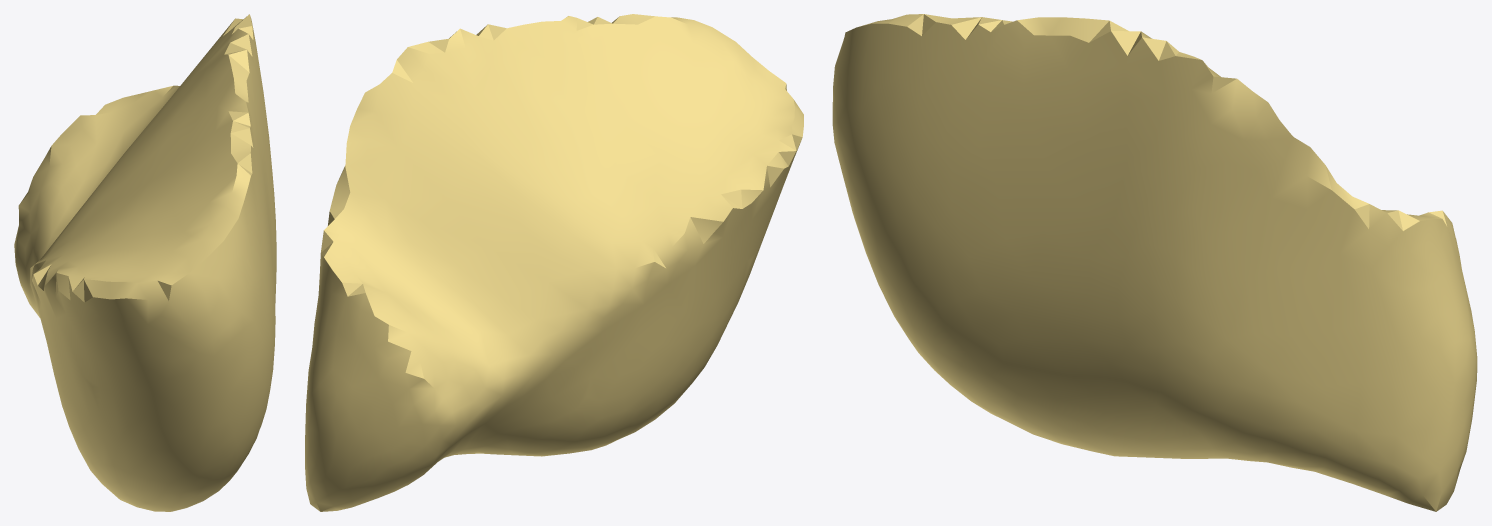
Rendered from fma72984_mm2790m.glb.
3 renders of one model, left to right at view 1: azimuth 30°, elevation 25°; view 2: azimuth 150°, elevation 25°; view 3: azimuth 270°, elevation 25°, orthographic. The views are drawn at different scales.
Parts seen in each view (by area): view 1: FMA72984_MM2790M; view 2: FMA72984_MM2790M; view 3: FMA72984_MM2790M.
Boxes of the visible parts, box(x1,y1,x2,y2) form: FMA72984_MM2790M: box(14, 14, 276, 511); FMA72984_MM2790M: box(305, 14, 803, 511); FMA72984_MM2790M: box(832, 14, 1477, 511).
Bounding box in the file's own units: 0.00349 × 0.00446 × 0.00554.
